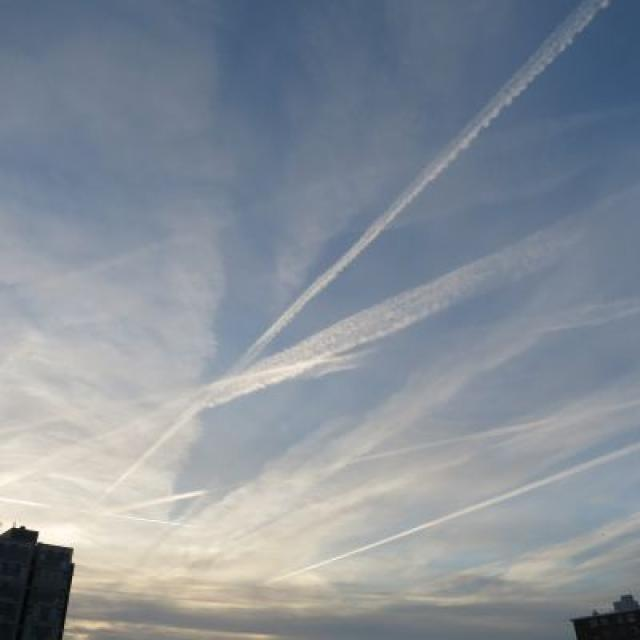Ct: (1, 1, 640, 497)
